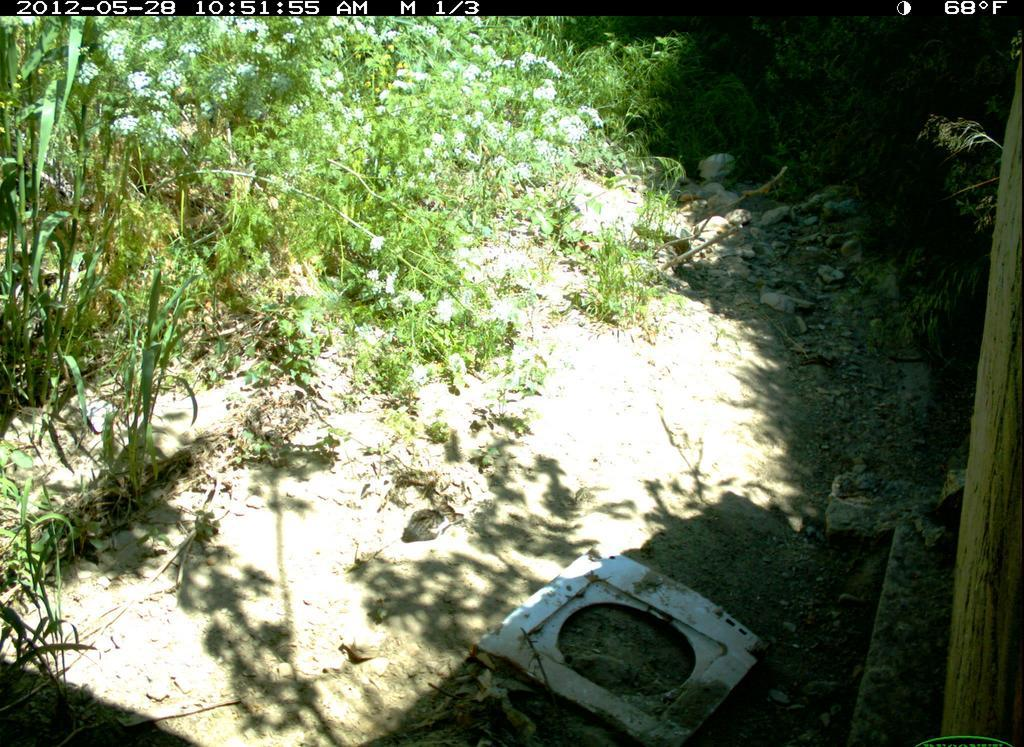cat: (396, 491, 468, 550)
